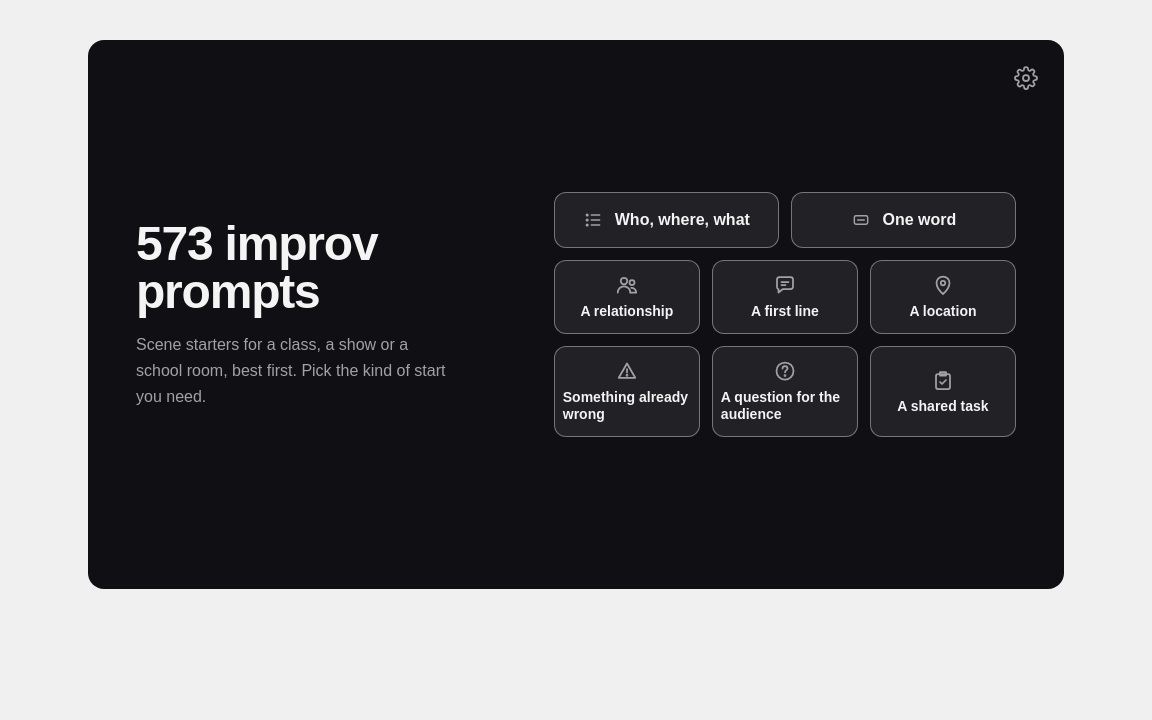
Test case: PromptGenerator › closes from the corner button and from the Escape key
This screenshot has width=1152, height=720.
Click the button "A relationship": point(627, 297) [554,260,700,334]
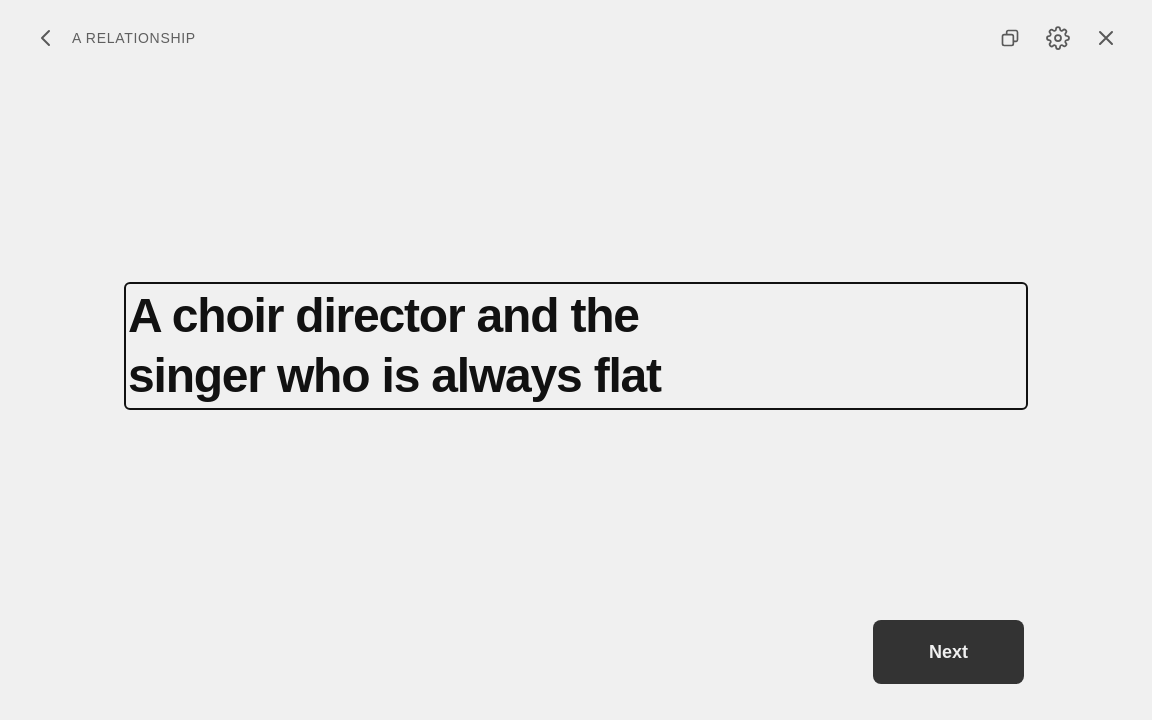
Click the button named "close": point(1106, 38) [1084,16,1128,60]
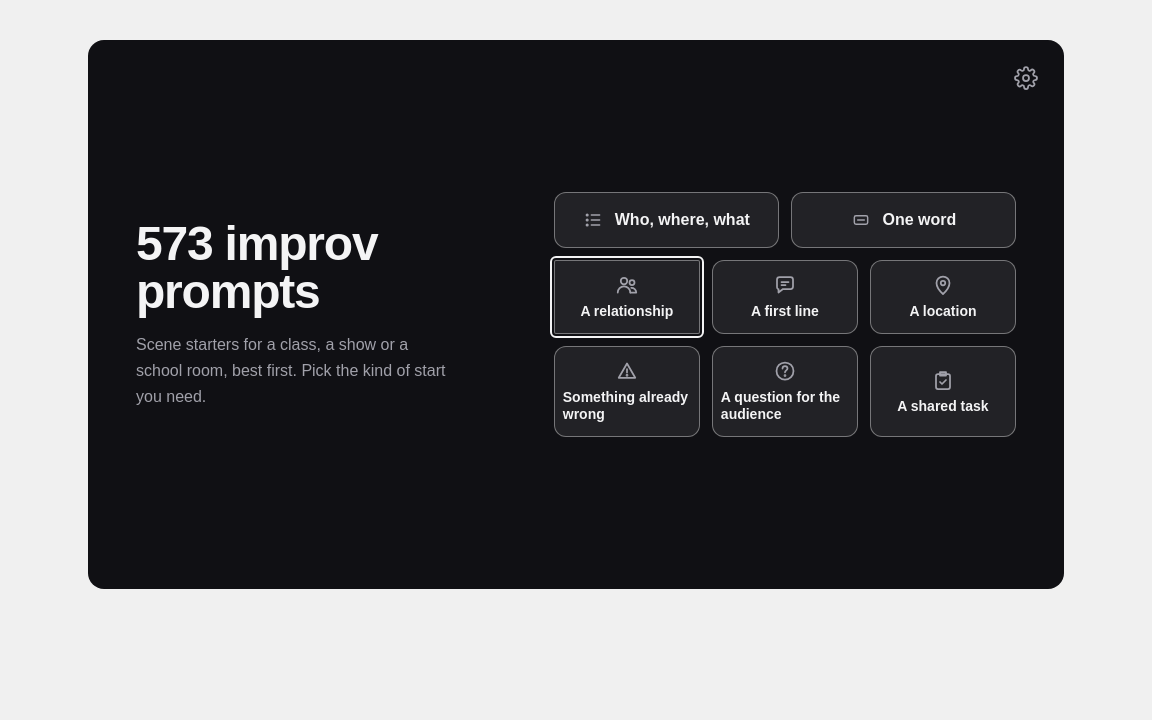
Expected: the dialog is gone
Click the button "A first line": point(785, 297) [712,260,858,334]
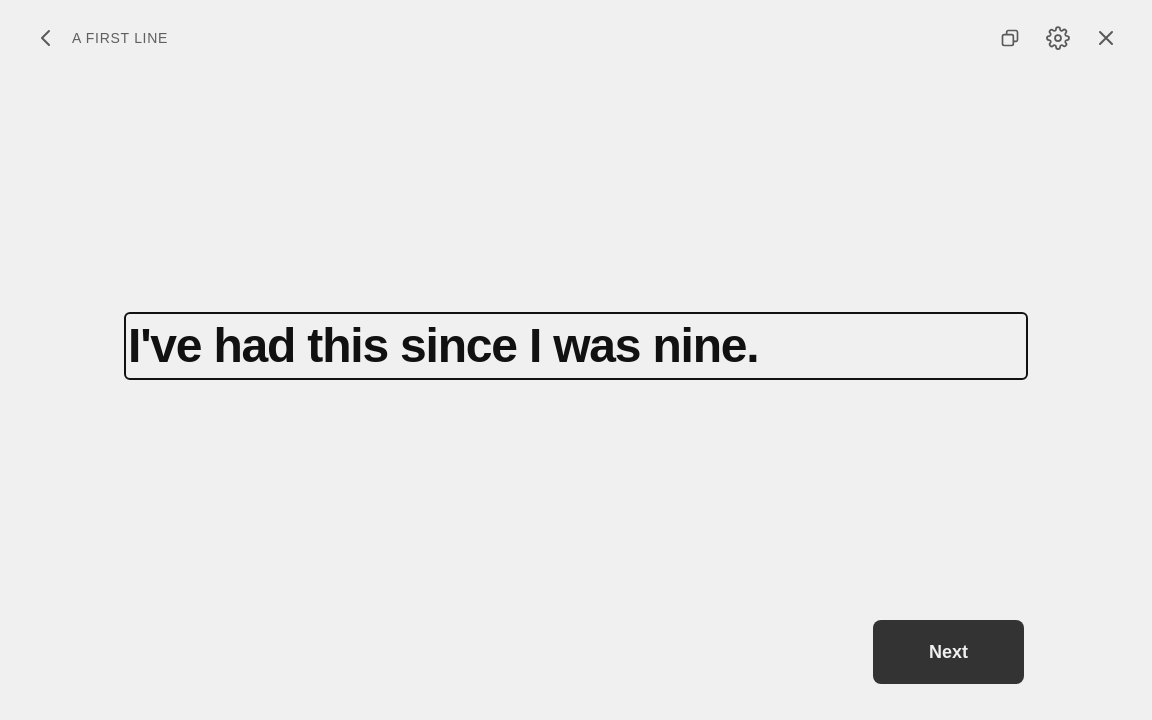
Press Escape
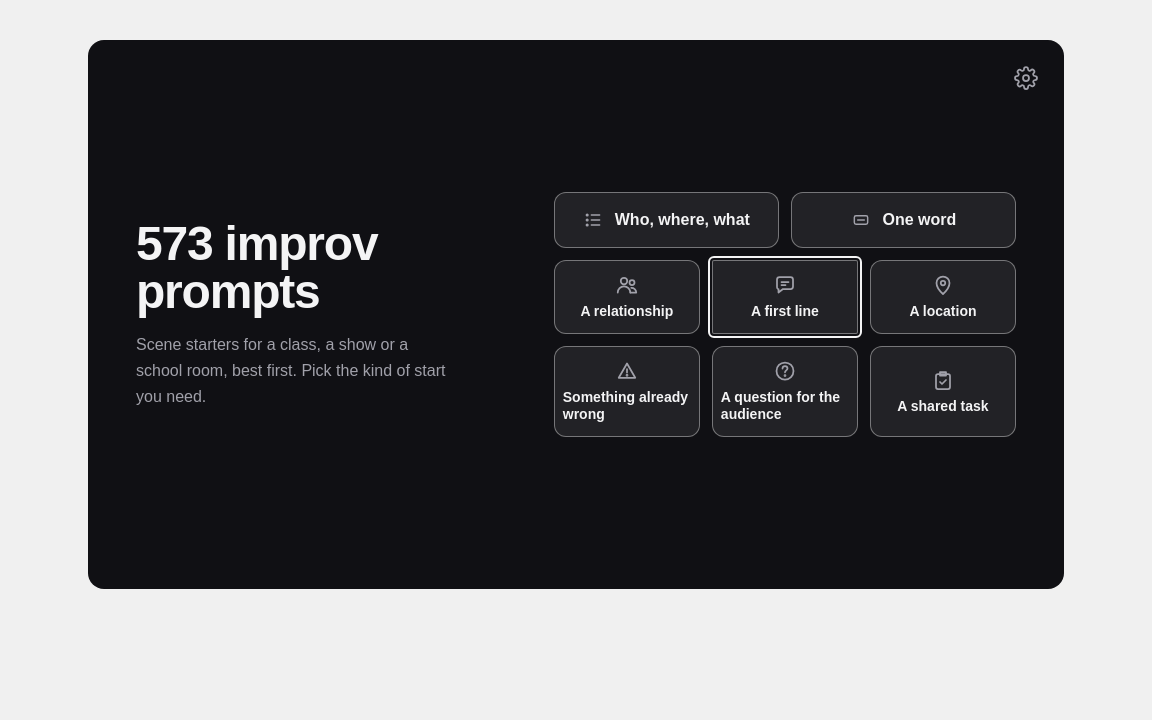
Expected: the dialog is gone
